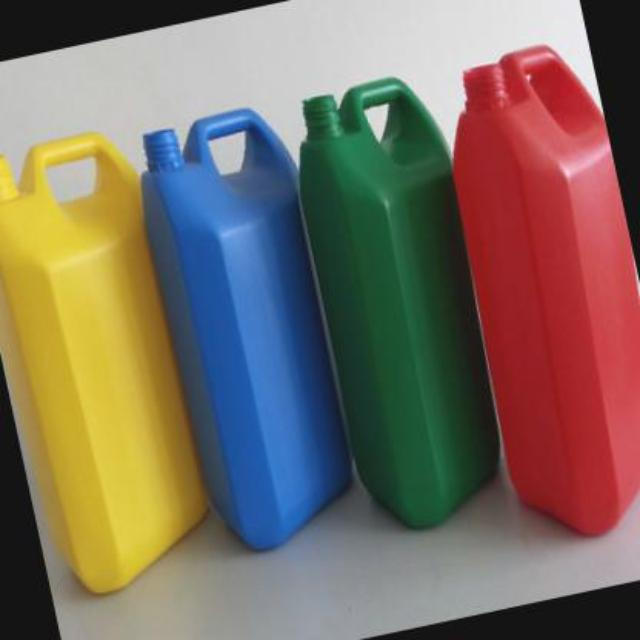chemical_plastic_gallon: (270, 49, 532, 544)
